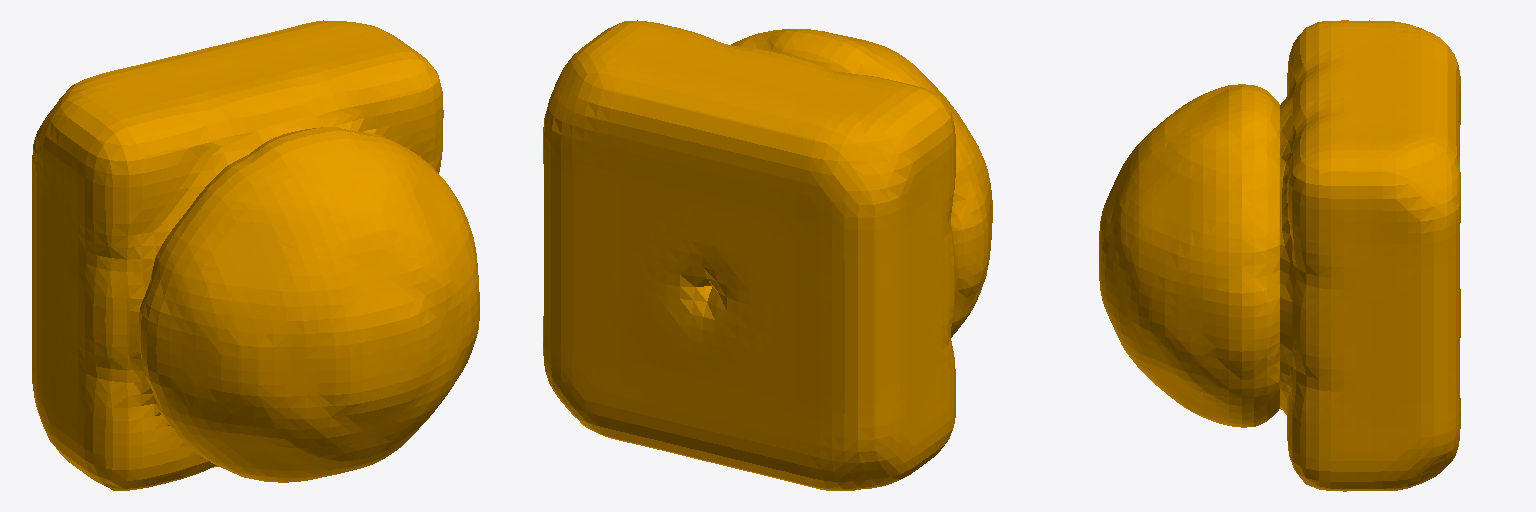
URDF robot description (object):
<?xml version="1.0"?>
        <robot name="object">
          <link name="object">
            <visual>
              <origin xyz="0.0 0.0 0.0"/>
              <geometry>
                <mesh filename="D1.stl" scale="1.00 1.00 1.00"/>
              </geometry>
            </visual>
            <collision>
              <origin xyz="0.0 0.0 0.0"/>
              <geometry>
                <mesh filename="D1.stl" scale="1.00 1.00 1.00"/>
              </geometry>
            </collision>
          </link>
        </robot>

--- Facts derived from the render (not from the file) ---
Views: 3 orthographic renders of the robot side by side, from view 1: azimuth 30°, elevation 25°; view 2: azimuth 150°, elevation 25°; view 3: azimuth 270°, elevation 25°.
Robot: object — 1 links, 0 joints (none); root link object; default pose: every joint at zero.
Links seen in each view (by area): view 1: object; view 2: object; view 3: object.
Boxes of the visible links, x1=… form: object: x1=32, y1=20, x2=479, y2=490; object: x1=543, y1=20, x2=992, y2=490; object: x1=1099, y1=20, x2=1460, y2=491.
Bounding box of the posed robot: 0.1 × 0.0961 × 0.0999 m (x, y, z).
1 mesh visuals loaded from 1 distinct referenced files (1 binary STL).